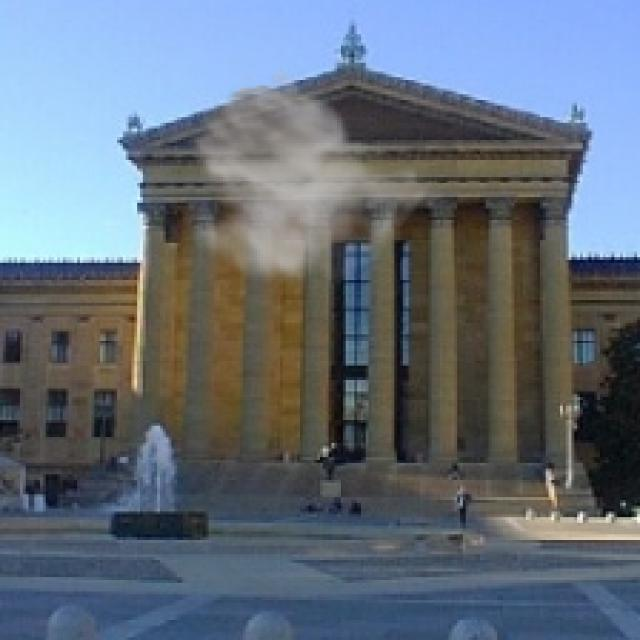smoke: (165, 66, 448, 291)
